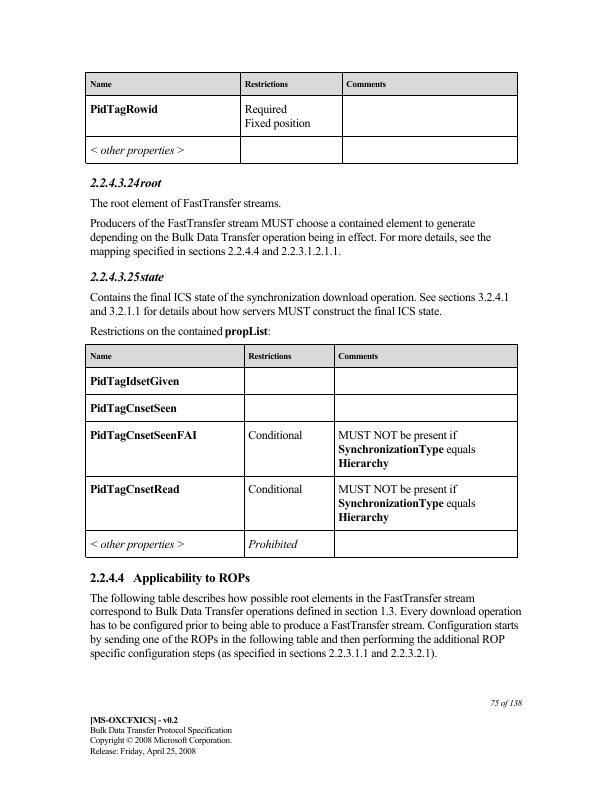table: (83, 342, 520, 562), (85, 70, 520, 168)
text: (88, 591, 524, 659), (88, 215, 492, 258), (87, 290, 510, 318), (86, 714, 233, 758), (87, 195, 281, 210), (86, 323, 274, 338), (86, 571, 253, 584), (88, 173, 163, 190), (87, 270, 168, 285), (489, 696, 525, 711)
